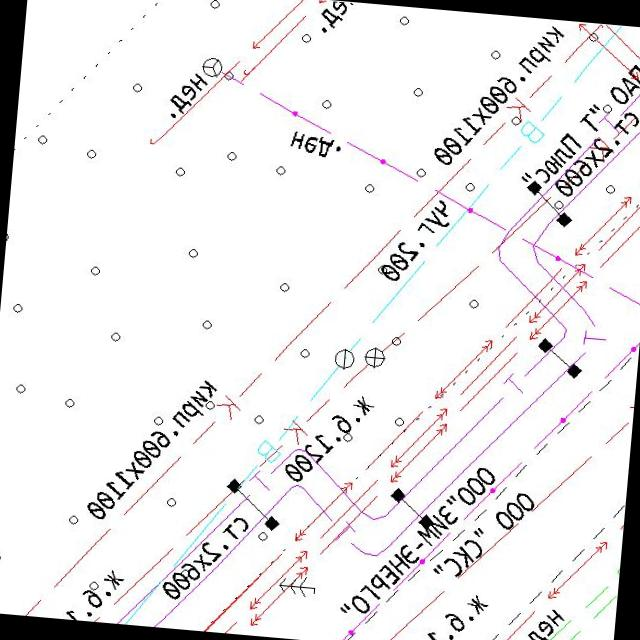tree: (276, 573, 318, 600)
well: (362, 344, 388, 371), (332, 346, 358, 372), (200, 54, 224, 79)
